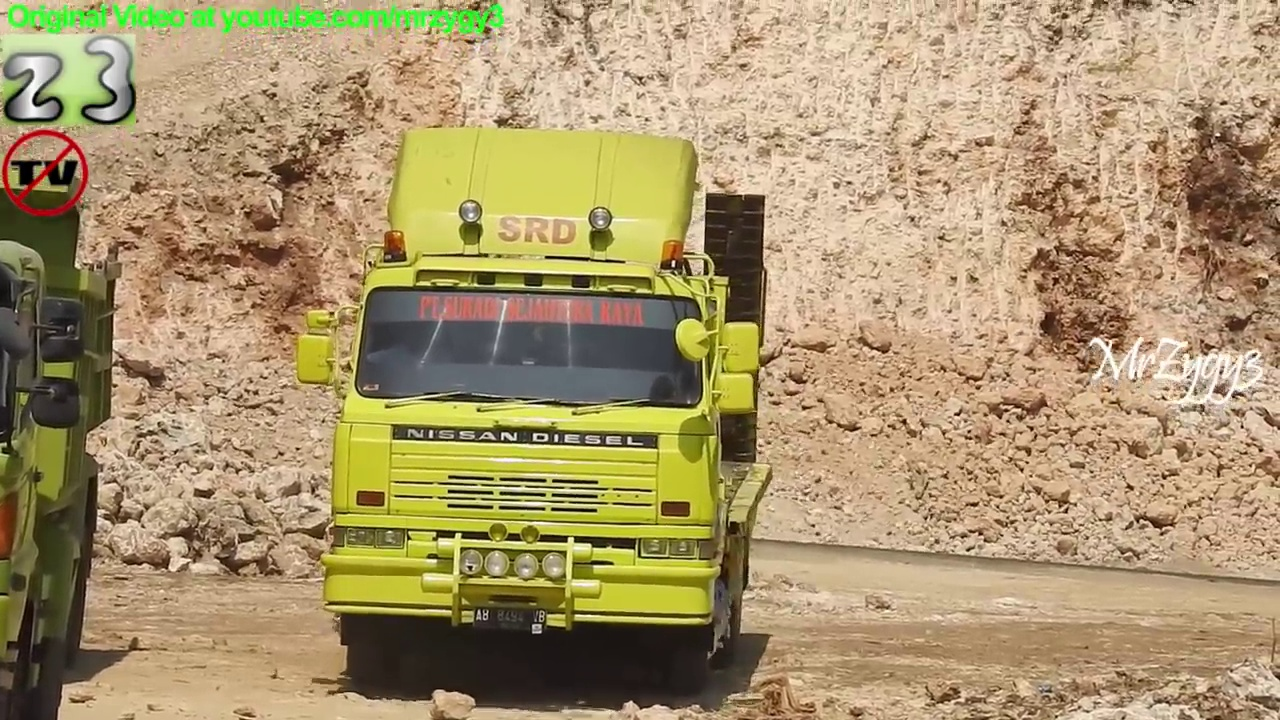truck: (292, 124, 784, 696), (1, 153, 123, 720)
